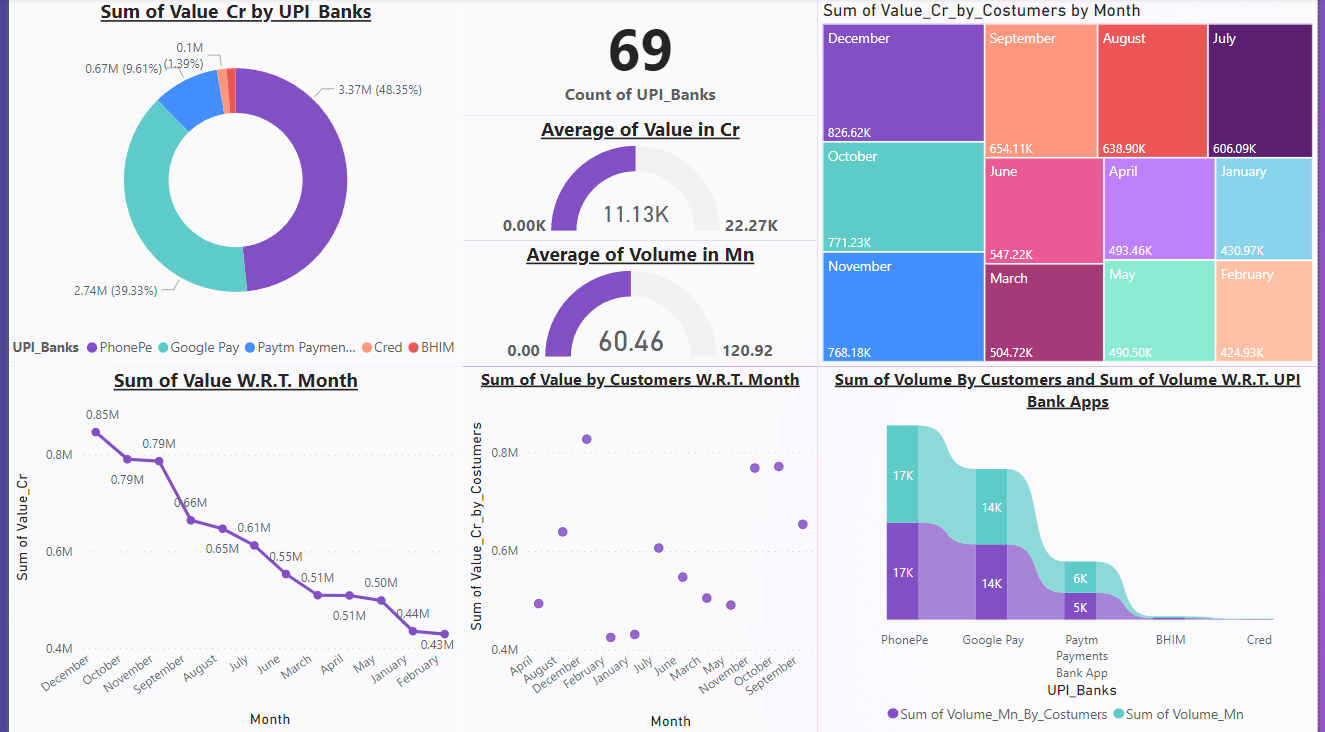

Layout of this report page (visuals, bound fields, positions):
{"tool":"powerbi","page":{"name":"Page 1","canvas":[1280,720],"ordinal":0},"visuals":[{"type":"lineChart","title":"Sum of Value W.R.T. Month","fields":{"Category":["UPIApps2021.Month"],"Y":["Sum(UPIApps2021.Value_Cr)"]},"box":[0,360.6,443.7,358.2],"z":0},{"type":"donutChart","fields":{"Y":["Sum(UPIApps2021.Value_Cr)"],"Category":["UPIApps2021.UPI_Banks"]},"box":[0,0,443.7,360.6],"z":1000},{"type":"treemap","fields":{"Group":["UPIApps2021.Month"],"Values":["Sum(UPIApps2021.Value_Cr_by_Costumers)"]},"box":[790.9,1.2,489,359.4],"z":2000},{"type":"gauge","fields":{"Y":["Avg(UPIApps2021.Value_Cr)"]},"box":[443.7,114.9,347.2,122.2],"z":3000},{"type":"card","fields":{"Values":["Count(UPIApps2021.UPI_Banks)"]},"box":[443.7,0,347.2,114.9],"z":4000},{"type":"ribbonChart","title":"Sum of Volume By Customers and Sum of Volume W.R.T. UPI Bank Apps","fields":{"Category":["UPIApps2021.UPI_Banks"],"Y":["Sum(UPIApps2021.Volume_Mn_By_Costumers)","Sum(UPIApps2021.Volume_Mn)"]},"box":[790.9,360.6,489,358.2],"z":5000},{"type":"scatterChart","title":"Sum of Value by Customers W.R.T. Month","fields":{"X":["UPIApps2021.Month"],"Y":["Sum(UPIApps2021.Value_Cr_by_Costumers)"]},"box":[443.7,360.6,347.2,359.4],"z":5001},{"type":"gauge","fields":{"Y":["Avg(UPIApps2021.Volume_Mn)"]},"box":[443.7,237.1,347.2,123.5],"z":5002}]}

Visuals, with their boxes in screenshot pixels (x1, y1, x2, y2), scaled from the page's 1280x720 canvas onto the 1325x732 screenshot:
"Sum of Value W.R.T. Month" lineChart: detection(0, 367, 459, 731)
donutChart - Sum(UPIApps2021.Value_Cr) x UPIApps2021.UPI_Banks: detection(0, 0, 459, 367)
treemap - UPIApps2021.Month x Sum(UPIApps2021.Value_Cr_by_Costumers): detection(819, 1, 1324, 367)
gauge - Avg(UPIApps2021.Value_Cr): detection(459, 117, 819, 241)
card - Count(UPIApps2021.UPI_Banks): detection(459, 0, 819, 117)
"Sum of Volume By Customers and Sum of Volume W.R.T. UPI Bank Apps" ribbonChart: detection(819, 367, 1324, 731)
"Sum of Value by Customers W.R.T. Month" scatterChart: detection(459, 367, 819, 731)
gauge - Avg(UPIApps2021.Volume_Mn): detection(459, 241, 819, 367)
